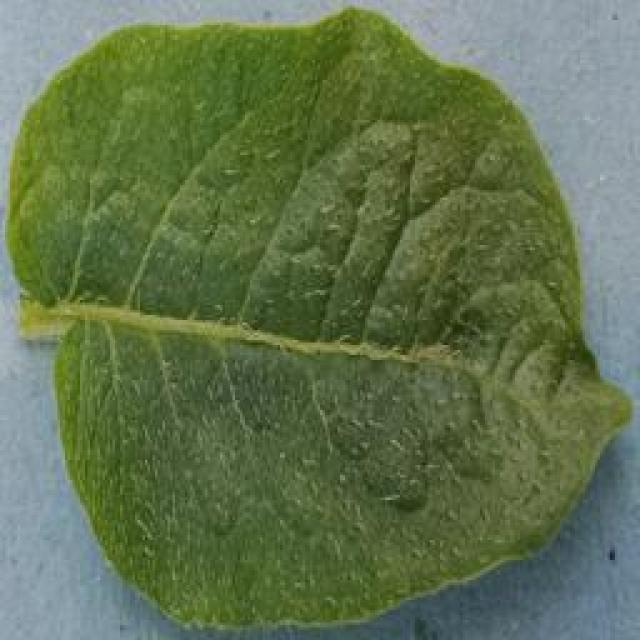Potato_Healthy: (5, 8, 622, 628)
